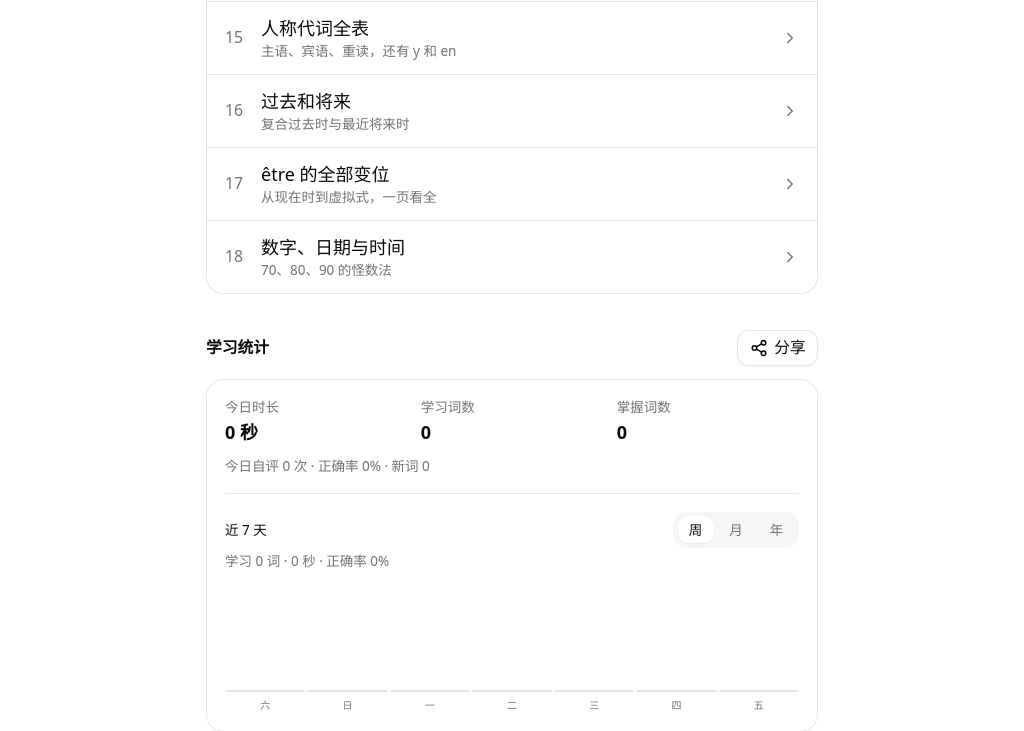
选词表页 › 点分享给出预览对话框
The width and height of the screenshot is (1024, 731).
(page scrolled)
Expected: the heading "学习统计" is shown, [206,336,269,359]
Click the button "分享" at x=778, y=348, box [737,330,818,366]
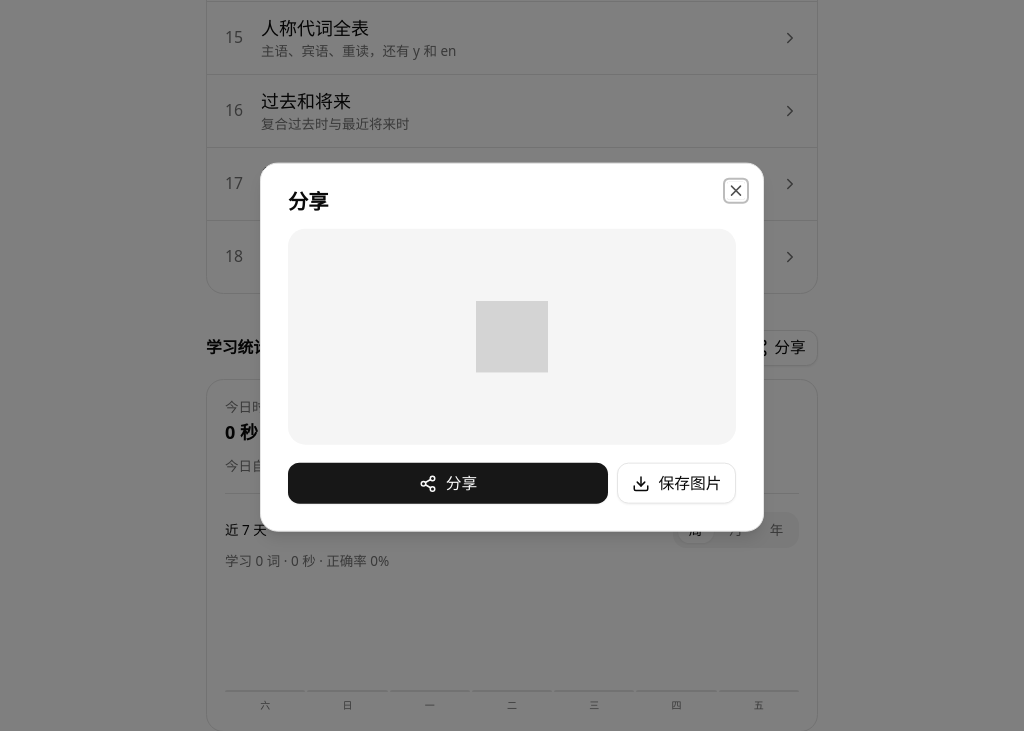
Expected: the button "保存图片" is shown, [617,463,736,503]
Expected: the dialog "分享" is shown, [260,163,764,531]
